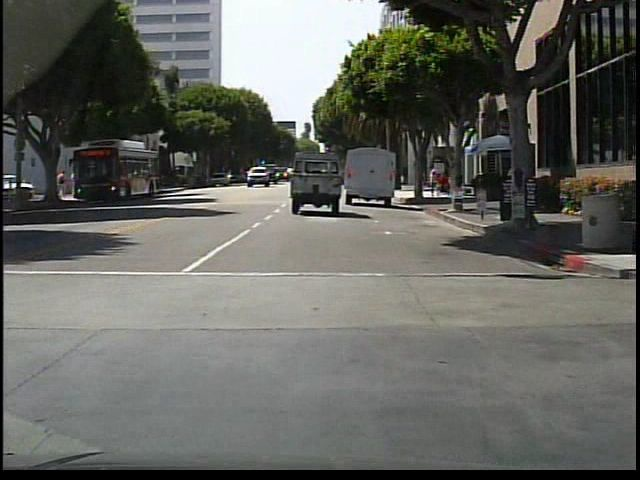person: (72, 169, 81, 199), (428, 171, 438, 197), (420, 167, 428, 199), (59, 172, 68, 199)
